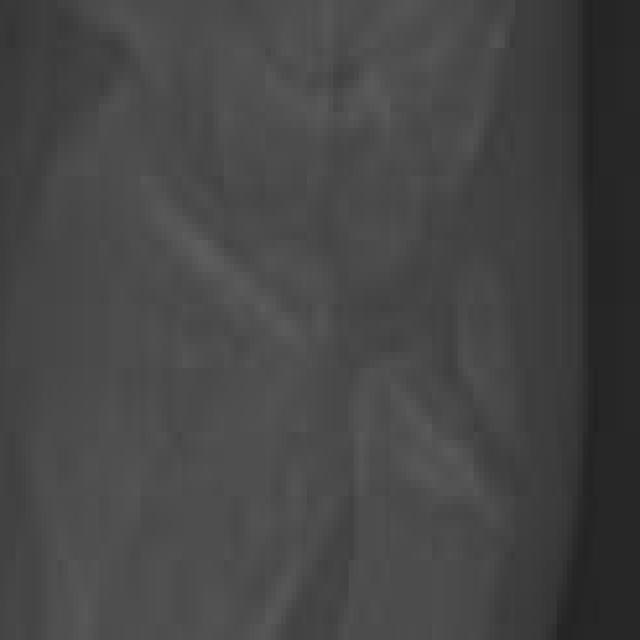fracture: (6, 3, 638, 640)
